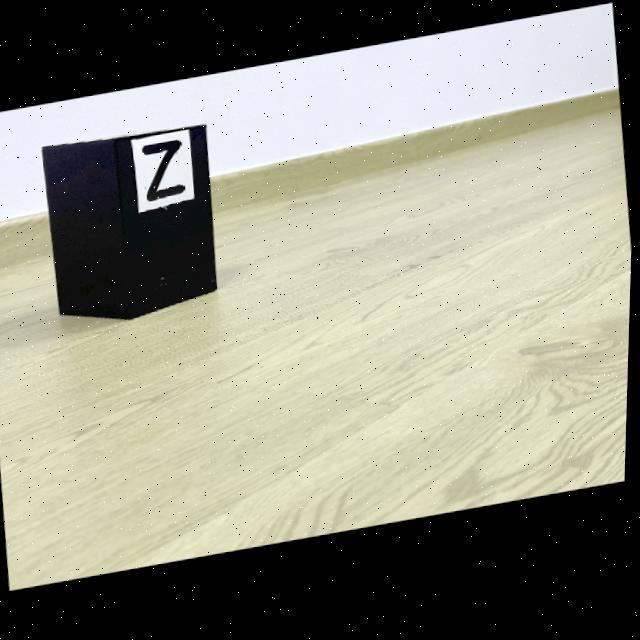Z: (143, 142, 185, 204)
